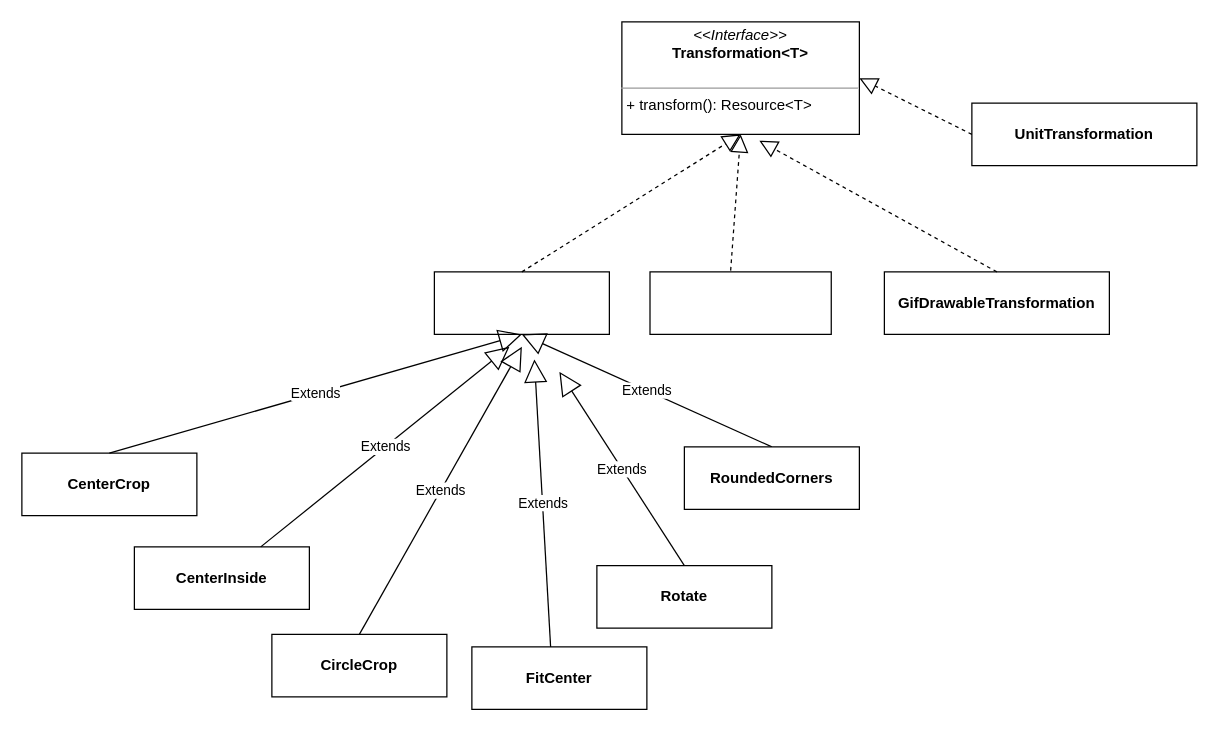
Some shapes in this 1219 by 731 pixel diagram are drawn without their labels. The centre of each missing label's shape, as x and y in pixels:
"BitmapTransformation" goes at [521,302].
"DrawableTransformation" goes at [740,302].
